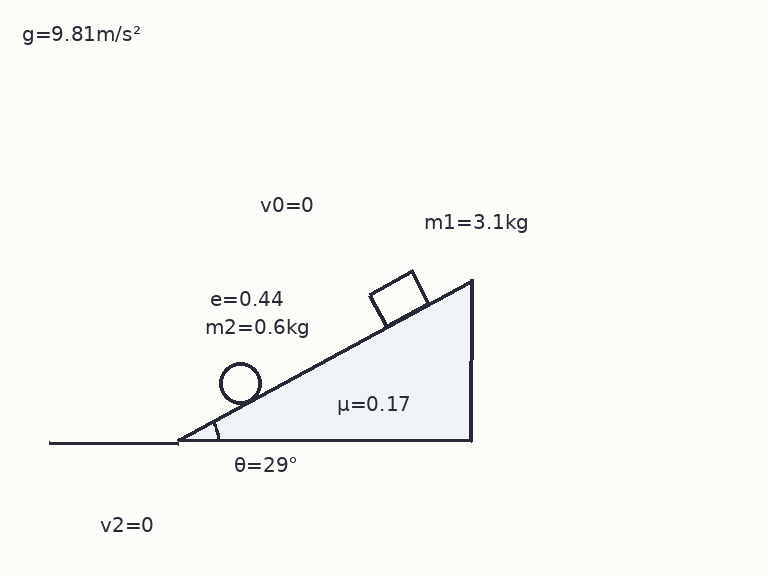ball: (217, 360, 263, 406)
block: (367, 269, 431, 328)
ramp: (176, 277, 472, 443)
